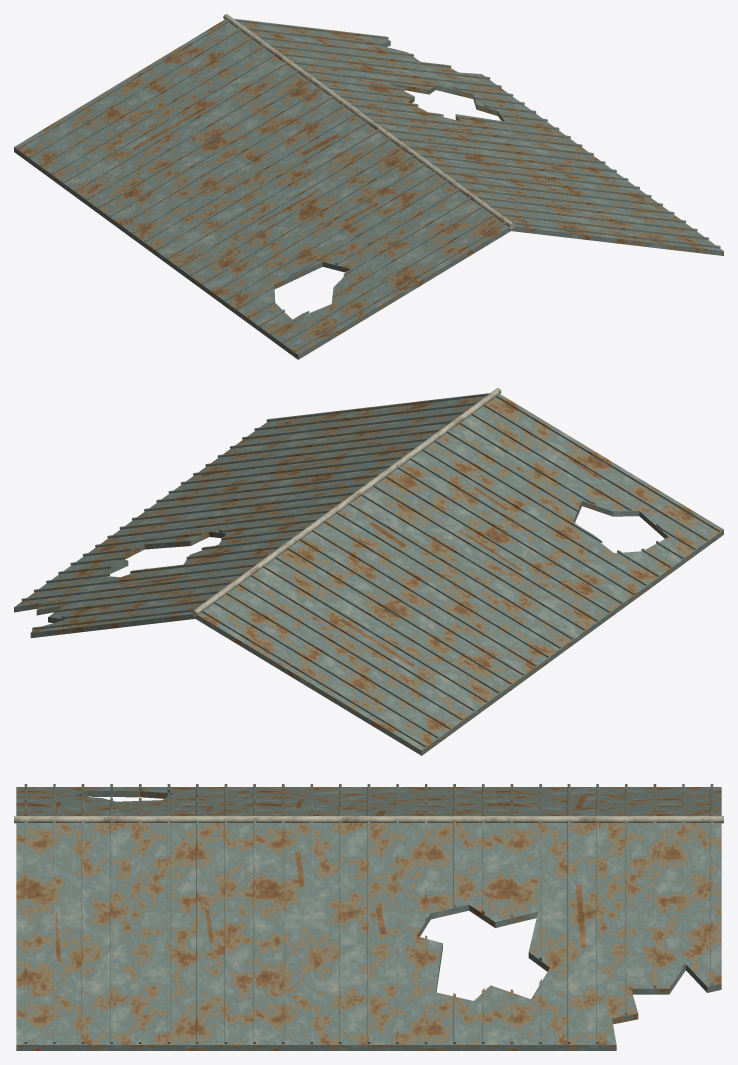
The model's file is Boat_Shed_Roof.glb.
3 views of the same model, one above another, from view 1: azimuth 30°, elevation 25°; view 2: azimuth 150°, elevation 25°; view 3: azimuth 270°, elevation 25° (orthographic). The views are drawn at different scales.
Visible parts, largest first — view 1: Boat_Shed_Roof; view 2: Boat_Shed_Roof; view 3: Boat_Shed_Roof.
Boxes of the visible parts, x1,y1,x2,y2 form: Boat_Shed_Roof: [14, 14, 723, 359]; Boat_Shed_Roof: [14, 388, 723, 755]; Boat_Shed_Roof: [14, 784, 723, 1050].
Bounding box in the file's own units: 12.81 × 2.45 × 14.9.
3 materials, 3 textured.
